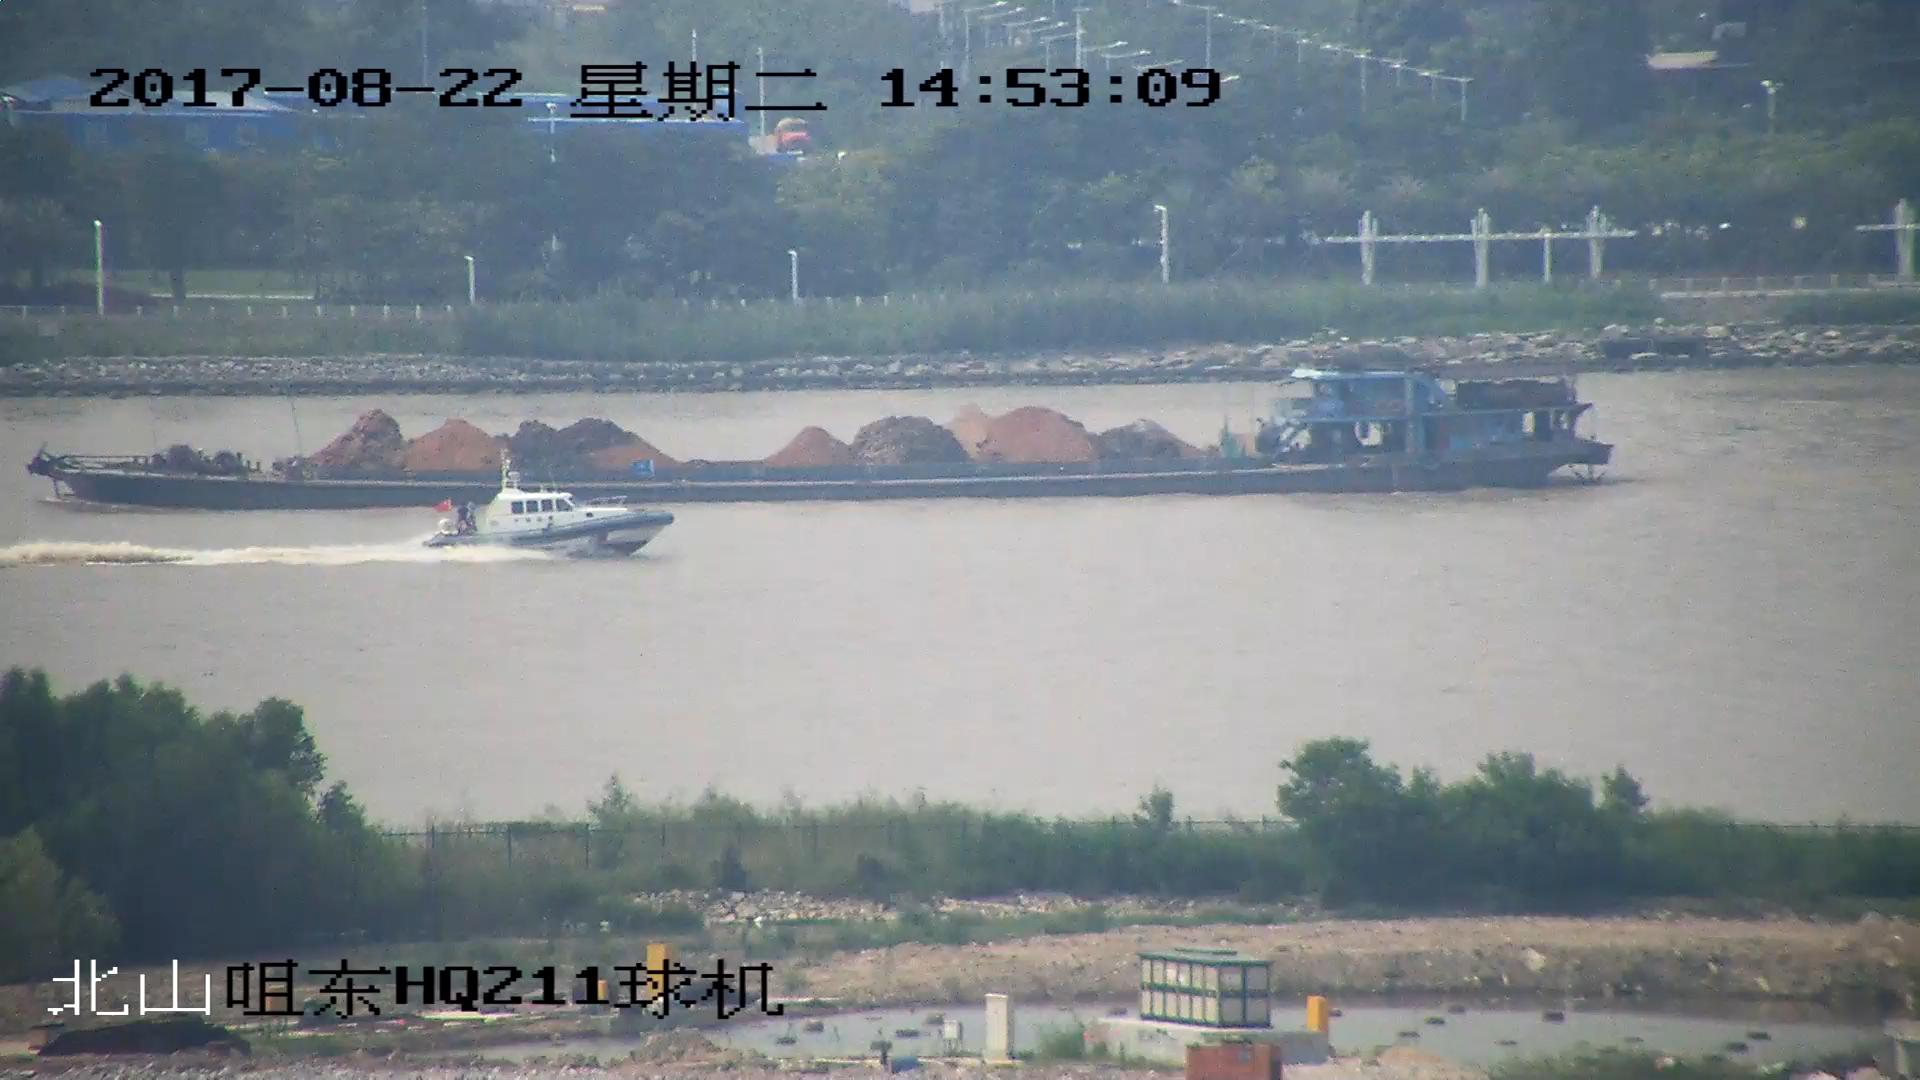ore carrier: (29, 341, 1621, 501)
passenger ship: (404, 459, 674, 561)
